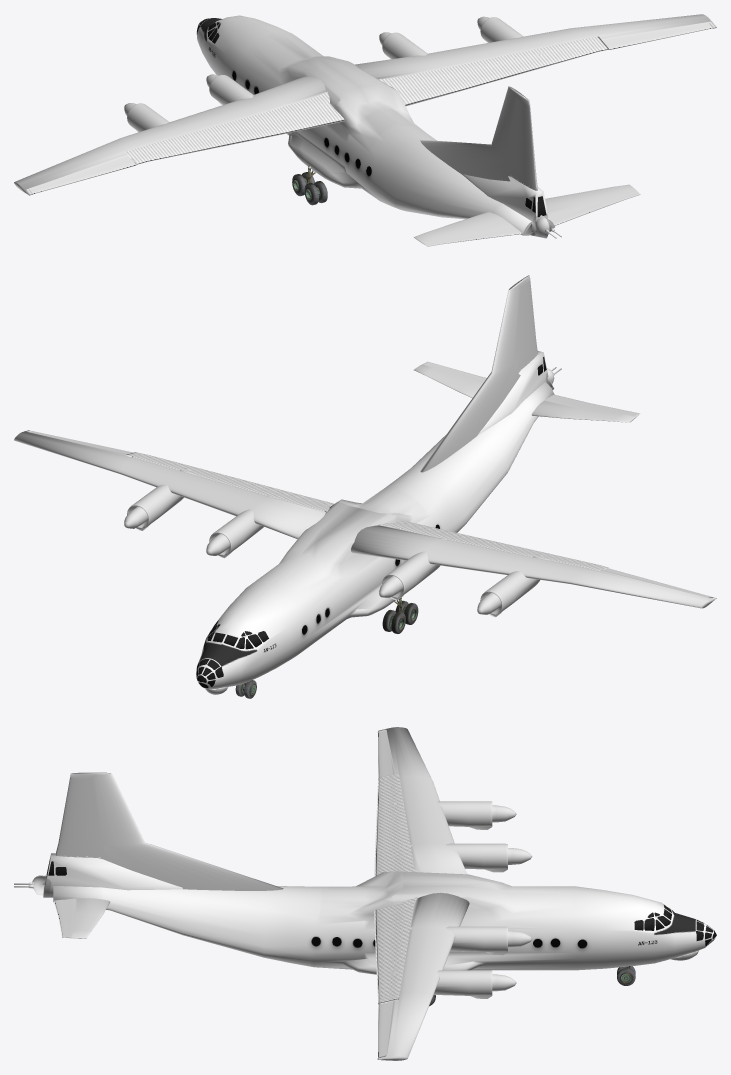
3 views of the same model, one above another, from view 1: azimuth 30°, elevation 25°; view 2: azimuth 150°, elevation 25°; view 3: azimuth 270°, elevation 25° (orthographic). The views are drawn at different scales.
Visible parts, largest first — view 1: Plane, Cylinder.001, Cylinder.006, Cylinder, Cylinder.003, Cylinder.009, Cube, Cylinder.004, Cylinder.005, Cylinder.007, Cylinder.008, Cylinder.011 (+2 smaller); view 2: Plane, Cylinder.001, Cylinder, Cylinder.006, Cylinder.005, Cylinder.004, Cylinder.003, Cube, Cylinder.009, Plane.001, Cylinder.014; view 3: Plane, Cylinder.001, Cylinder, Cylinder.006, Cylinder.004, Cylinder.005, Cube, Cylinder.009, Cylinder.003, Plane.001, Cylinder.008, Cylinder.011 (+1 smaller).
Part boxes in pixels (left/top/right/bottom): Plane: left=196, top=15, right=554, bottom=235; Cylinder.001: left=14, top=14, right=716, bottom=195; Cylinder.006: left=126, top=36, right=608, bottom=164; Cylinder: left=420, top=86, right=537, bottom=190; Cylinder.003: left=414, top=184, right=640, bottom=246; Cylinder.009: left=507, top=99, right=537, bottom=188; Cube: left=461, top=174, right=552, bottom=235; Cylinder.004: left=206, top=32, right=444, bottom=111; Cylinder.005: left=124, top=16, right=543, bottom=140; Cylinder.007: left=29, top=156, right=136, bottom=194; Cylinder.008: left=602, top=22, right=712, bottom=49; Cylinder.011: left=547, top=190, right=638, bottom=225; Plane: left=196, top=382, right=554, bottom=694; Cylinder.001: left=14, top=430, right=716, bottom=608; Cylinder: left=420, top=275, right=537, bottom=472; Cylinder.006: left=126, top=452, right=608, bottom=570; Cylinder.005: left=124, top=468, right=548, bottom=617; Cylinder.004: left=206, top=495, right=445, bottom=600; Cylinder.003: left=414, top=361, right=640, bottom=422; Cube: left=477, top=351, right=554, bottom=435; Cylinder.009: left=517, top=280, right=537, bottom=371; Plane.001: left=196, top=620, right=268, bottom=688; Cylinder.014: left=382, top=597, right=418, bottom=633; Plane: left=53, top=871, right=715, bottom=974; Cylinder.001: left=377, top=727, right=469, bottom=1060; Cylinder: left=55, top=772, right=283, bottom=890; Cylinder.006: left=374, top=773, right=417, bottom=1004; Cylinder.004: left=410, top=843, right=532, bottom=955; Cylinder.005: left=394, top=801, right=516, bottom=998; Cube: left=43, top=853, right=182, bottom=897; Cylinder.009: left=56, top=778, right=105, bottom=857; Cylinder.003: left=53, top=898, right=109, bottom=938; Plane.001: left=634, top=904, right=716, bottom=945; Cylinder.008: left=378, top=1001, right=393, bottom=1057; Cylinder.011: left=54, top=898, right=76, bottom=936.
Bounding box in the file's own units: 3.37 × 1 × 3.05.
Materials: 8 (7 with a texture image).
